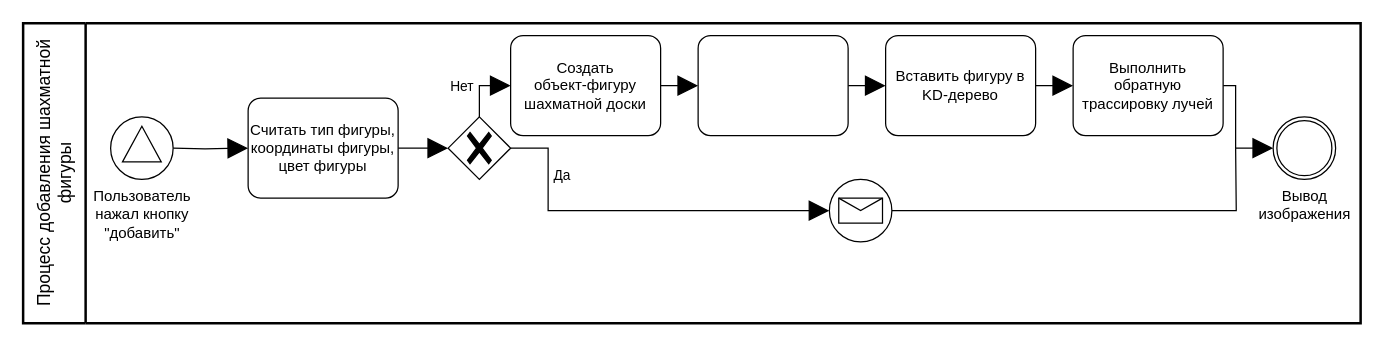
This 1383x345 diagram has some shape labels left out. Each missing label, with the centre of its shape:
"Отправить пользователю сообщение об ошибке" belongs at (860,210).
"Переместить фигуру в заданное место на шахматной доске" belongs at (772,85).
"Фигура уже есть на сцене?" belongs at (479,147).
